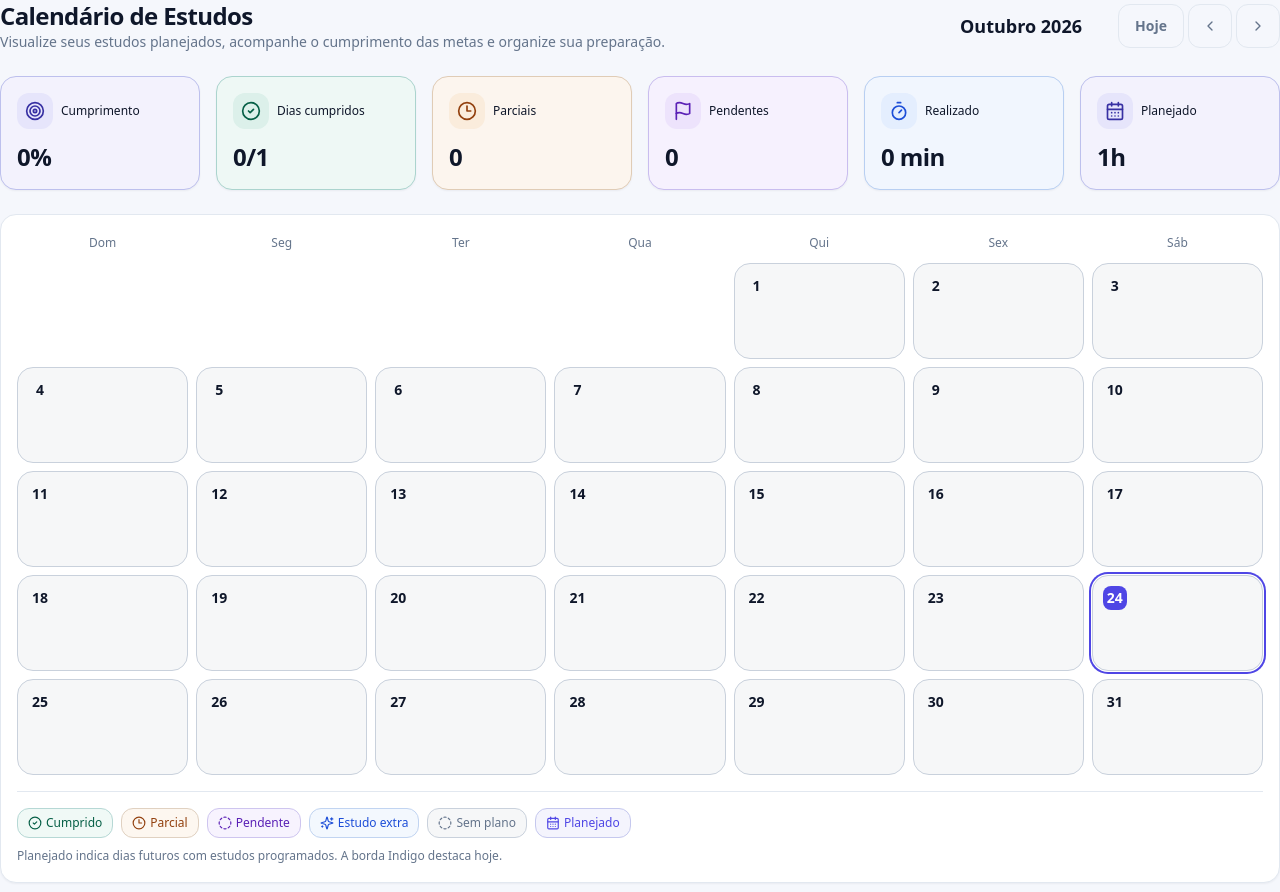
Test: calendar month navigation › keeps navigation in an empty following month and lets the user return
The image size is (1280, 892).
Click the button named "Próximo mês": [1258, 26] box [1236,4,1279,48]
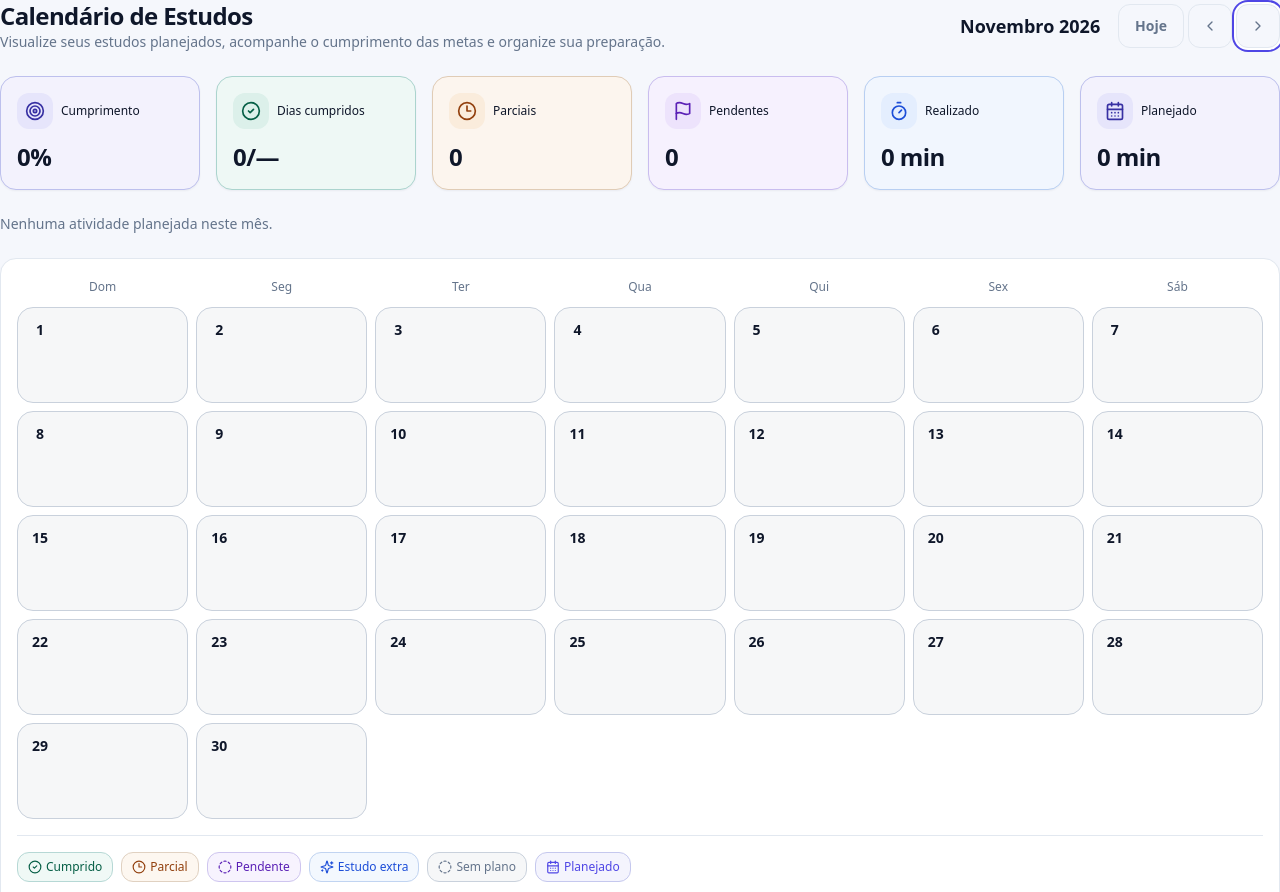
Expected: the text "Nenhuma atividade planejada neste mês." is shown, [0,214,272,233]
Click the button named "Mês anterior": [1210, 26] box [1188,4,1232,48]
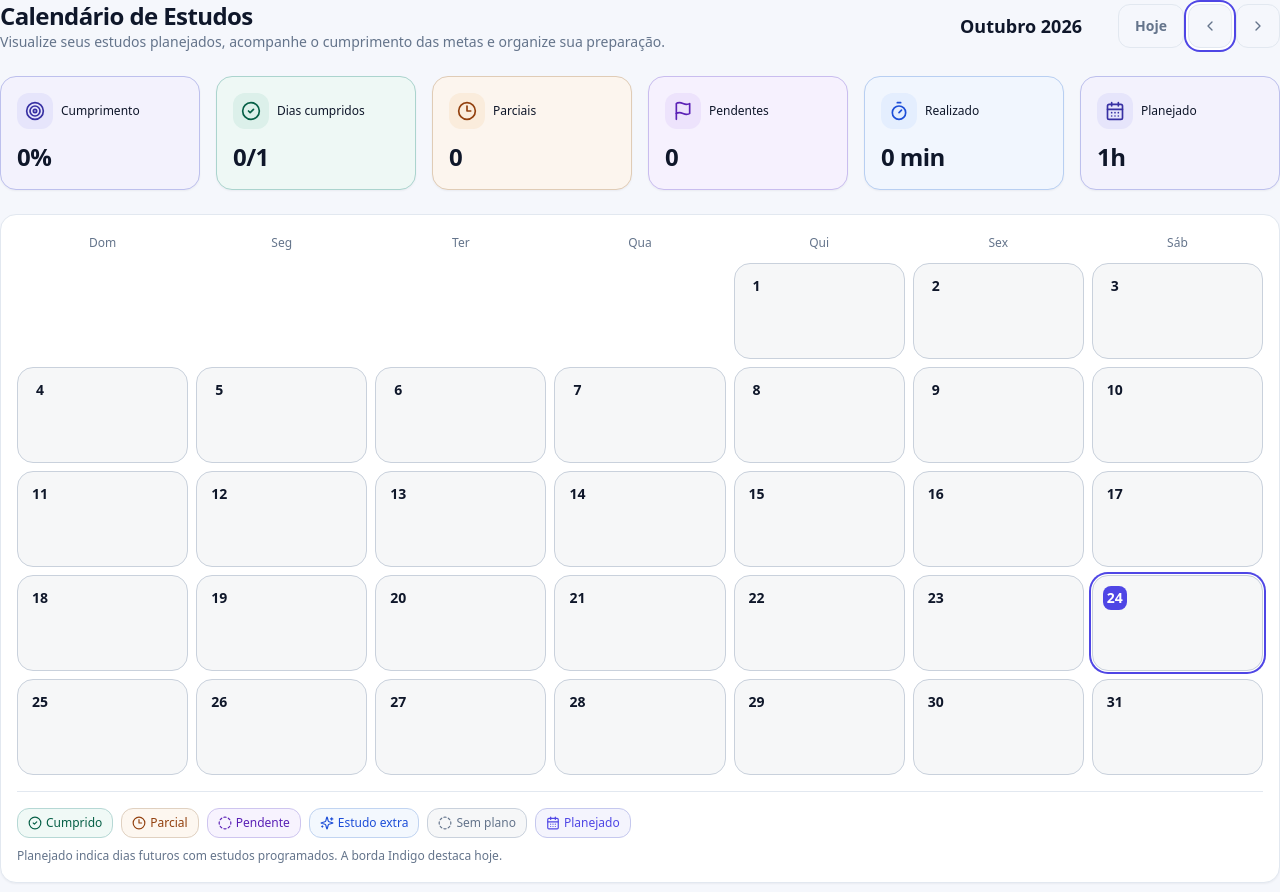
Expected: the button named "Próximo mês" is shown, [1236,4,1279,48]
Expected: the text "Nenhuma atividade planejada neste mês." is gone
